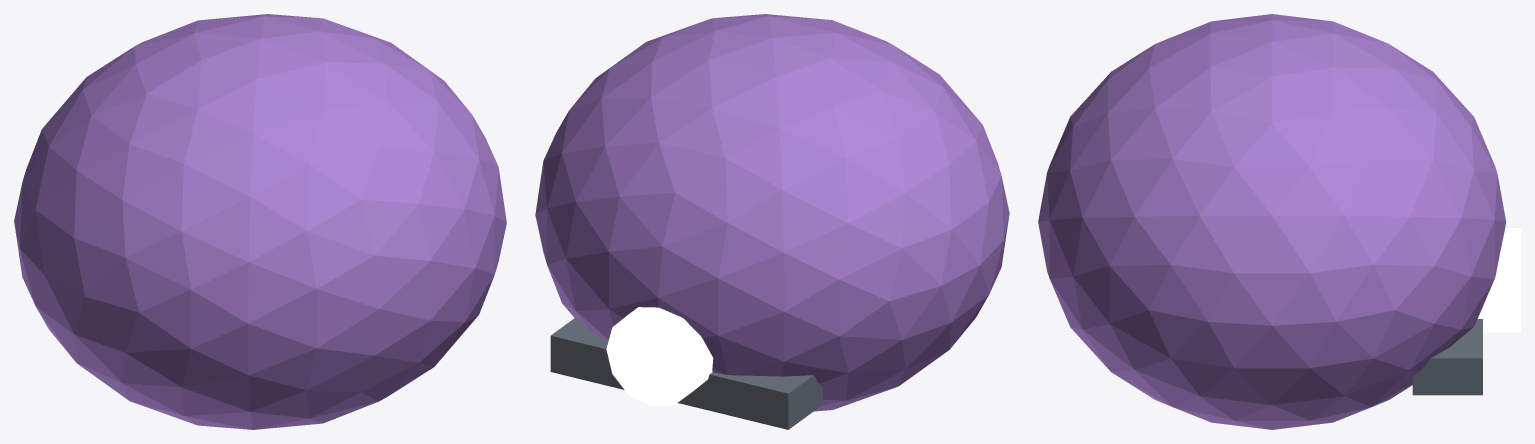
File: inhibidor_3.glb
3 views of the same model, side by side, from view 1: azimuth 30°, elevation 25°; view 2: azimuth 150°, elevation 25°; view 3: azimuth 270°, elevation 25° (orthographic). The views are drawn at different scales.
Parts seen in each view (by area): view 1: casco; view 2: casco, visera, linterna; view 3: casco, visera, linterna.
Part boxes in pixels (x1,y1,x2,y2): casco: (14,14,506,429); casco: (535,14,1009,411); visera: (550,317,822,429); linterna: (606,307,713,406); casco: (1038,14,1506,429); visera: (1412,319,1482,395); linterna: (1477,228,1520,332).
Bounding box in the file's own units: 0.9 × 0.7286 × 0.8839.
